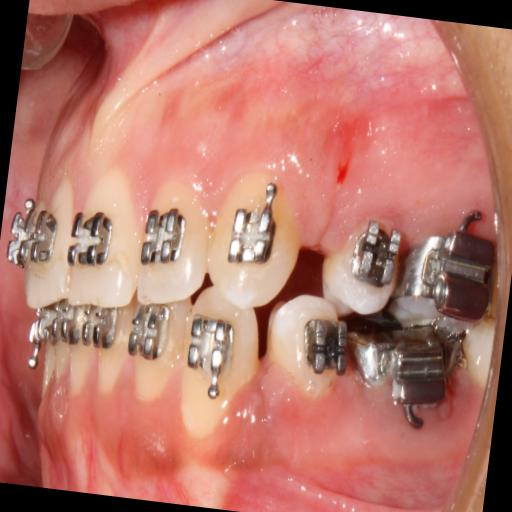correct_brace: (262, 290, 356, 404), (316, 212, 412, 320), (222, 180, 288, 278), (183, 310, 241, 398), (138, 186, 190, 282), (66, 196, 122, 279), (298, 310, 350, 380)
incorrect_brace: (134, 176, 216, 310), (347, 218, 404, 288)
